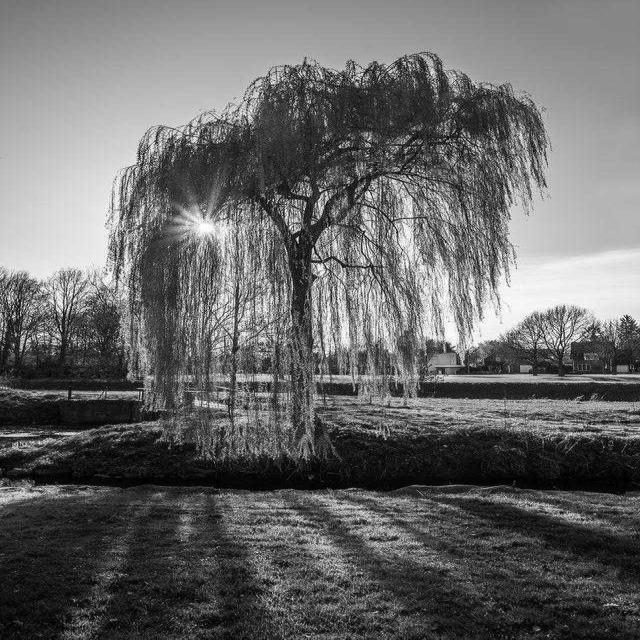Tree: (109, 54, 548, 462)
